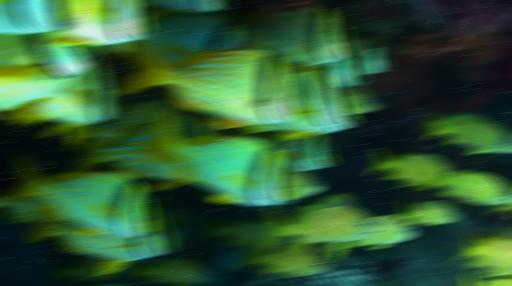Fish: (118, 44, 301, 127), (137, 110, 290, 205), (6, 154, 157, 236), (26, 208, 173, 274), (6, 60, 117, 143), (243, 71, 356, 140), (237, 5, 354, 65), (0, 34, 99, 101), (72, 121, 184, 179), (139, 9, 244, 65), (262, 199, 377, 250), (51, 0, 150, 44), (78, 101, 179, 144), (421, 109, 511, 154), (366, 148, 451, 189), (237, 245, 328, 277), (429, 171, 510, 205), (155, 199, 204, 251), (262, 136, 333, 171), (452, 234, 511, 276), (203, 217, 272, 250), (348, 215, 413, 249), (130, 258, 211, 285), (50, 256, 133, 282), (0, 0, 58, 33), (291, 193, 352, 221), (0, 197, 65, 222), (322, 53, 365, 86), (283, 168, 322, 203), (349, 41, 390, 74), (400, 201, 457, 224), (336, 86, 379, 114), (342, 25, 385, 49), (146, 0, 229, 11), (487, 226, 511, 240), (487, 204, 511, 213), (465, 272, 471, 285), (106, 284, 114, 285)
